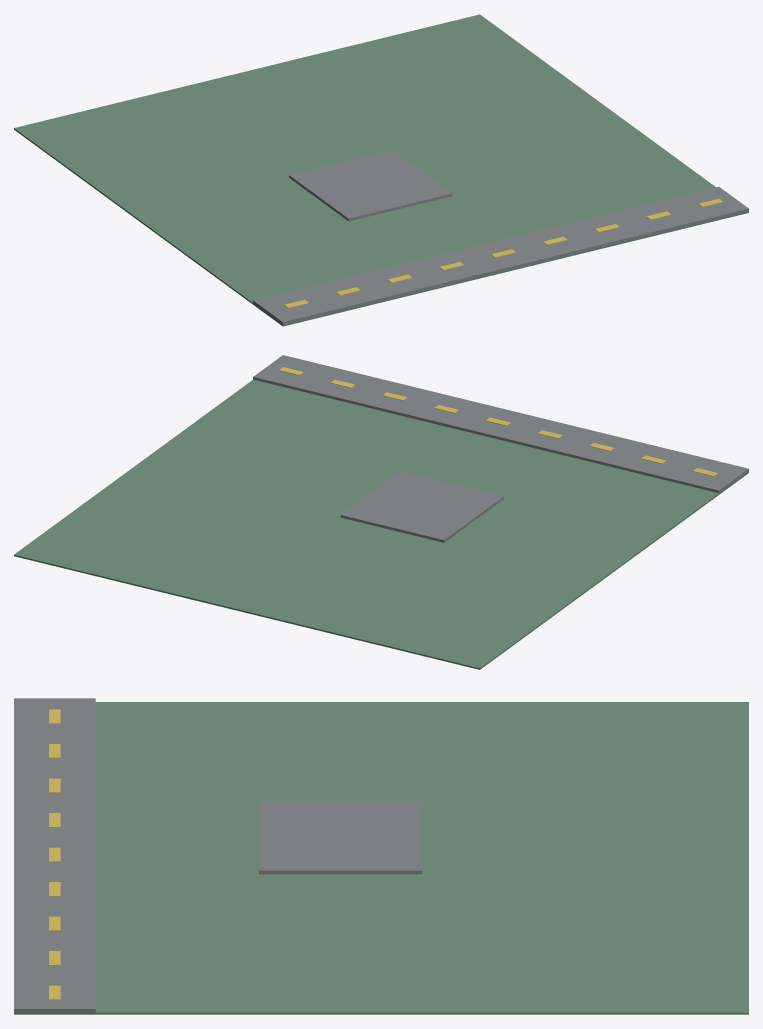
The model's file is stage_01.glb.
3 renders of one model, top to bottom at view 1: azimuth 30°, elevation 25°; view 2: azimuth 150°, elevation 25°; view 3: azimuth 270°, elevation 25°, orthographic. The views are drawn at different scales.
Parts seen in each view (by area): view 1: geometry_0; view 2: geometry_0; view 3: geometry_0.
Boxes of the visible parts, bbox=[...] form: geometry_0: bbox=[14, 14, 748, 326]; geometry_0: bbox=[14, 355, 748, 669]; geometry_0: bbox=[14, 698, 748, 1014].
Bounding box in the file's own units: 9 × 0.091 × 9.
